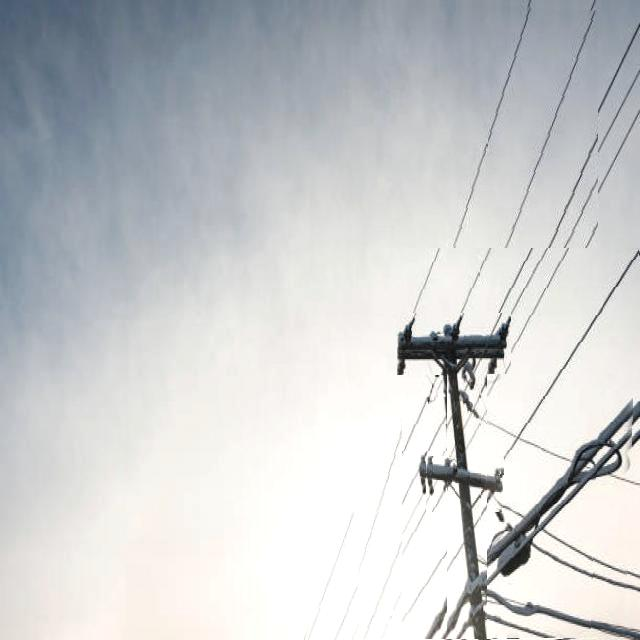crossarm: (397, 313, 511, 375), (426, 457, 504, 512)
pole: (447, 367, 487, 639)
wire: (353, 8, 598, 640), (305, 4, 532, 640), (402, 248, 639, 634)
